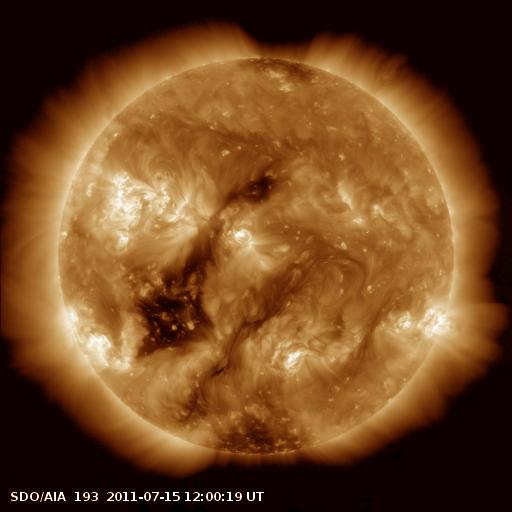coronal_hole: (130, 219, 222, 364), (208, 402, 313, 465), (216, 168, 279, 219), (243, 49, 316, 87)
